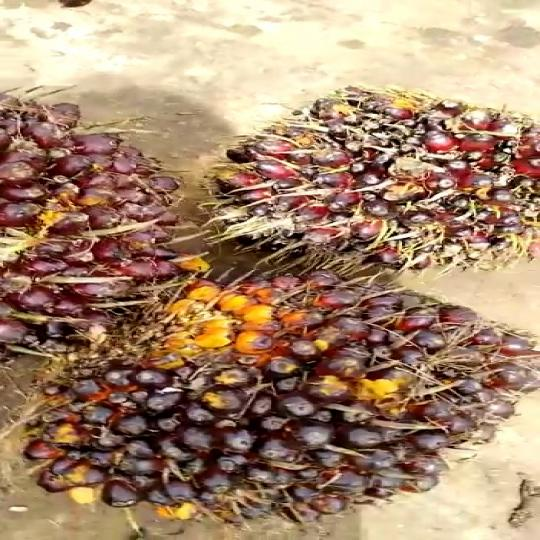kurang masak: (13, 269, 510, 519), (219, 91, 540, 272), (0, 95, 195, 353)
